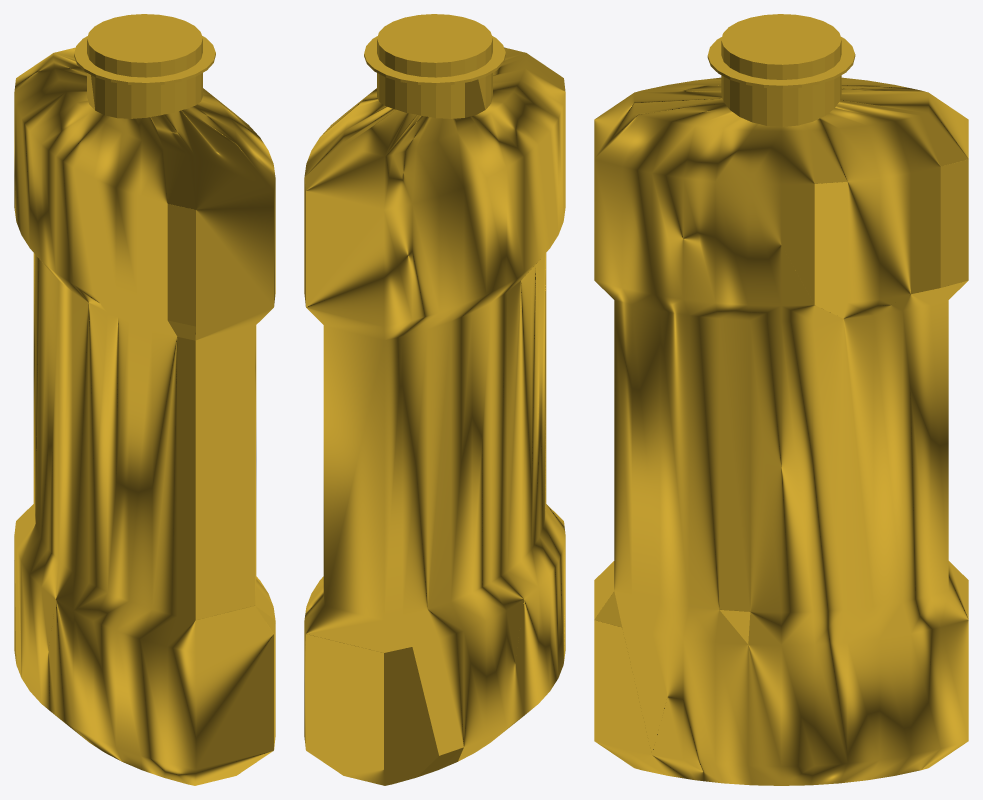
Rendered from bottle_1.obj.
3 renders of one model, left to right at view 1: azimuth 30°, elevation 25°; view 2: azimuth 150°, elevation 25°; view 3: azimuth 270°, elevation 25°, orthographic. The views are drawn at different scales.
Bounding box in the file's own units: 0.043 × 0.1594 × 0.0753.
